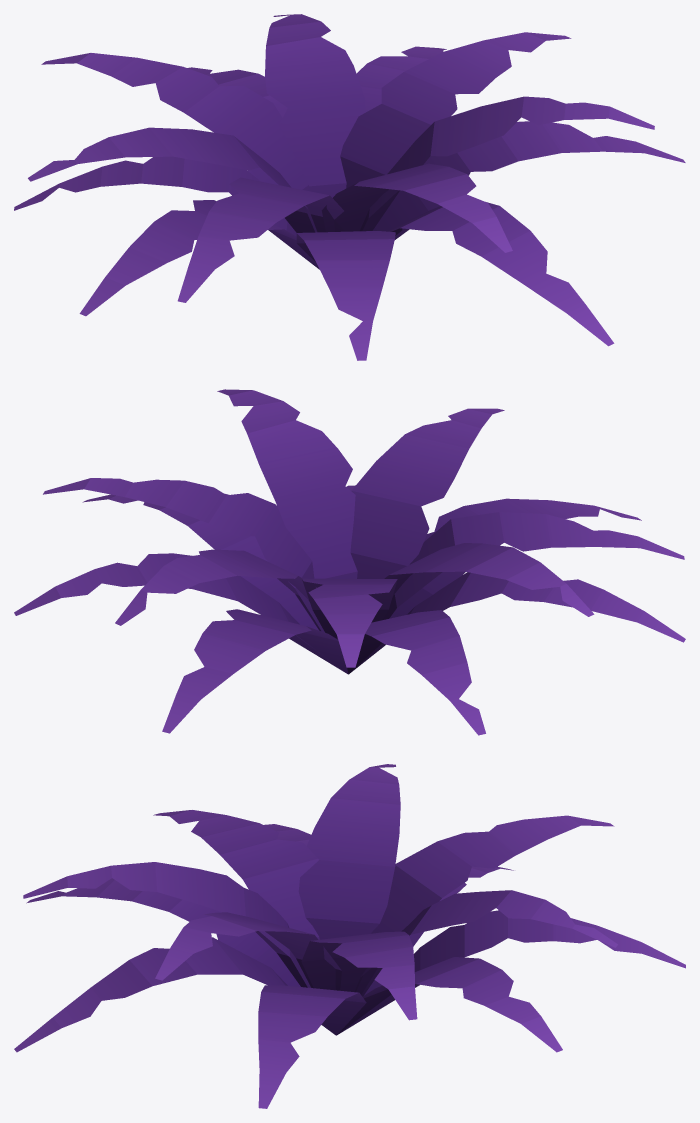
File: MagicDoubleFern.fbx
3 renders of one model, top to bottom at view 1: azimuth 30°, elevation 25°; view 2: azimuth 150°, elevation 25°; view 3: azimuth 270°, elevation 25°, orthographic. The views are drawn at different scales.
Visible parts, largest first — view 1: MagicDoubleFern; view 2: MagicDoubleFern; view 3: MagicDoubleFern.
Part boxes in pixels (x1,y1,x2,y2): MagicDoubleFern: (14,14,685,360); MagicDoubleFern: (14,389,685,735); MagicDoubleFern: (14,764,685,1108).
Size of the model in its own units: 433 by 127 by 434.
